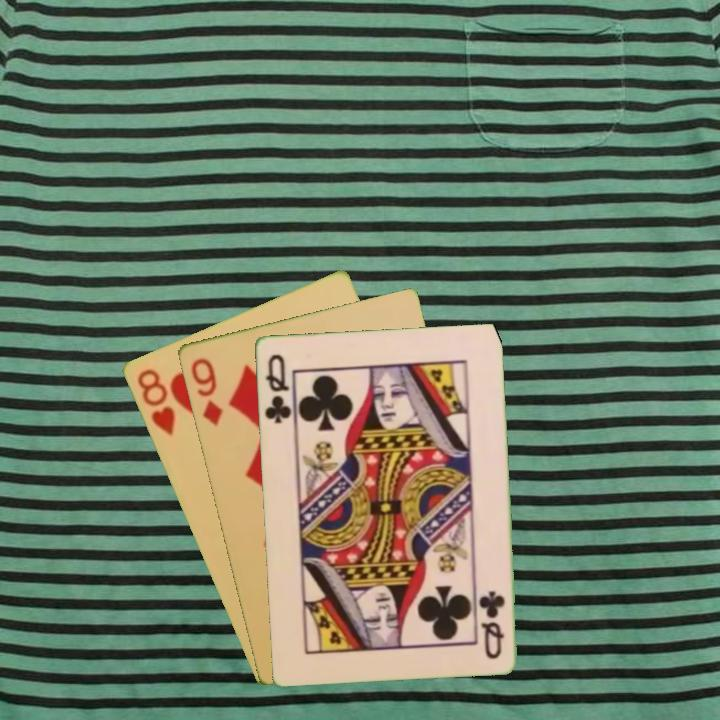8h: (133, 365, 178, 439)
9d: (187, 354, 226, 429)
Qc: (260, 350, 296, 428), (477, 586, 508, 662)
